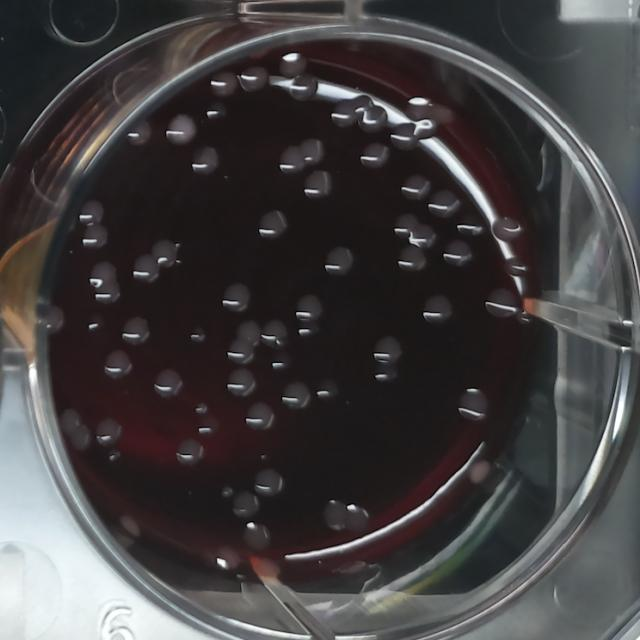Vibrio: (254, 206, 292, 245), (454, 383, 491, 422), (321, 242, 357, 282), (162, 111, 197, 149), (150, 366, 186, 402), (118, 311, 153, 348), (420, 291, 455, 328), (427, 187, 463, 222), (220, 279, 253, 317), (279, 378, 313, 414), (484, 286, 518, 322), (129, 250, 162, 286), (224, 366, 258, 400), (396, 242, 430, 276), (441, 237, 475, 271), (238, 62, 272, 96), (189, 144, 221, 180), (259, 316, 290, 353), (103, 346, 133, 384), (292, 290, 325, 324), (251, 468, 285, 501), (370, 331, 402, 366), (244, 399, 276, 433), (302, 169, 334, 203), (398, 172, 431, 204), (174, 437, 207, 469), (92, 415, 124, 448), (149, 238, 180, 272), (358, 140, 390, 172), (207, 70, 239, 102), (278, 143, 308, 177), (87, 256, 118, 288), (79, 221, 112, 251), (123, 118, 153, 150), (409, 221, 439, 252), (92, 278, 124, 307), (77, 196, 106, 226), (234, 317, 262, 348), (391, 212, 420, 241), (298, 138, 328, 166), (225, 338, 254, 366), (203, 98, 230, 127)
